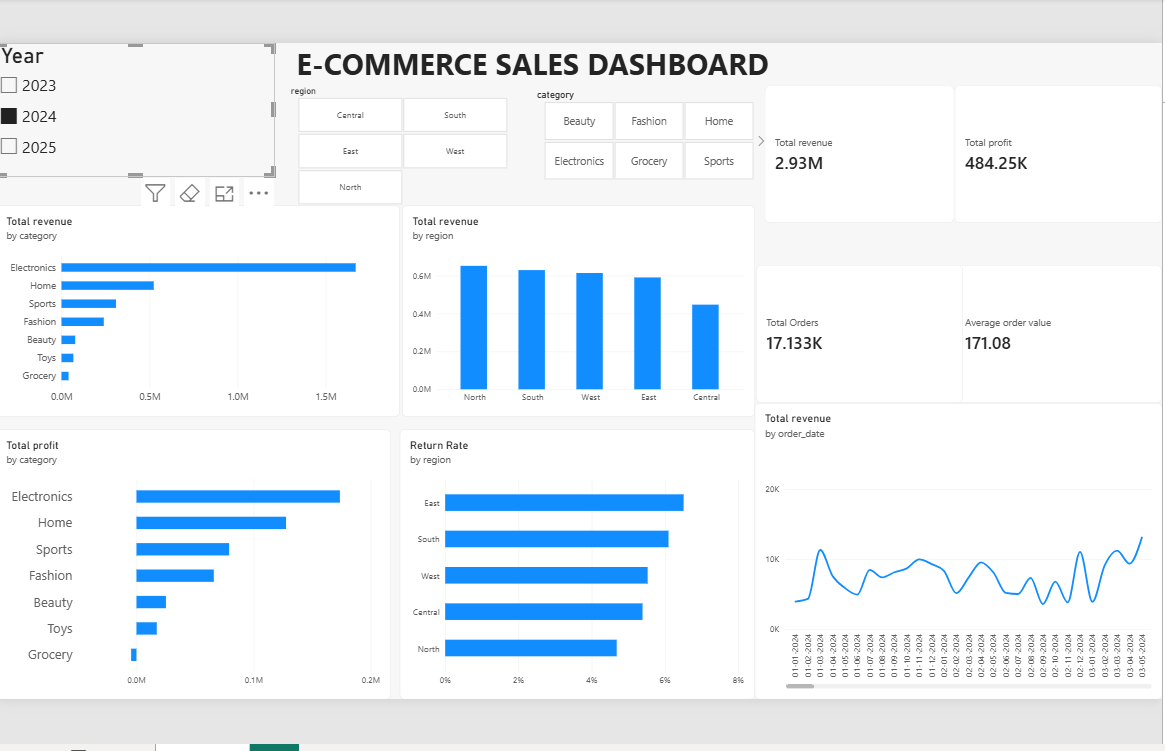

What the dashboard file says about the page in this screenshot:
{"tool":"powerbi","page":{"name":"Page 1","canvas":[1920,1080],"ordinal":0},"visuals":[{"type":"barChart","fields":{"Category":["e_sales e_sales.category"],"Y":["e_sales e_sales.Total revenue"]},"box":[0,267.6,664.8,347.9],"z":0},{"type":"columnChart","fields":{"Category":["e_sales e_sales.region"],"Y":["e_sales e_sales.Total revenue"]},"box":[669,267.6,580.4,347.9],"z":1000},{"type":"barChart","fields":{"Category":["e_sales e_sales.category"],"Y":["e_sales e_sales.Total profit"]},"box":[0,636,650.4,444.6],"z":2000},{"type":"lineChart","fields":{"Category":["e_sales e_sales.order_date"],"Y":["e_sales e_sales.Total revenue"]},"box":[1249.4,592.8,671,487.8],"z":3000},{"type":"barChart","fields":{"Category":["e_sales e_sales.region"],"Y":["e_sales e_sales.Return Rate"]},"box":[664.8,636,584.6,444.6],"z":4000},{"type":"textbox","box":[481.6,0,800.7,76.2],"z":5000},{"type":"slicer","fields":{"Values":["e_sales e_sales.Year"]},"box":[0,0,459,220.2],"z":6000},{"type":"slicer","fields":{"Values":["e_sales e_sales.region"]},"box":[477.5,70,382.8,197.6],"z":7000},{"type":"slicer","fields":{"Values":["e_sales e_sales.category"]},"box":[883,76.2,382.8,150.3],"z":8000},{"type":"cardVisual","fields":{"Data":["e_sales e_sales.Total revenue"]},"box":[1265.9,70,312.9,226.4],"z":9000},{"type":"cardVisual","fields":{"Data":["e_sales e_sales.Total profit"]},"box":[1578.7,70,341.7,226.4],"z":10000},{"type":"cardVisual","fields":{"Data":["e_sales e_sales.Average order value"]},"box":[1578.7,366.4,341.7,226.4],"z":11000},{"type":"cardVisual","fields":{"Data":["e_sales e_sales.Total Orders"]},"box":[1251.5,366.4,341.7,226.4],"z":12000}]}

Visuals, with their boxes on the page's 1920x1080 design canvas (x1, y1, x2, y2). These are canvas units, not pixel positions in the 1165x751 screenshot, which may show the page scaled, cropped or inside an application window:
barChart - e_sales e_sales.category x e_sales e_sales.Total revenue: x1=0 y1=268 x2=665 y2=616
columnChart - e_sales e_sales.region x e_sales e_sales.Total revenue: x1=669 y1=268 x2=1249 y2=616
barChart - e_sales e_sales.category x e_sales e_sales.Total profit: x1=0 y1=636 x2=650 y2=1081
lineChart - e_sales e_sales.order_date x e_sales e_sales.Total revenue: x1=1249 y1=593 x2=1920 y2=1081
barChart - e_sales e_sales.region x e_sales e_sales.Return Rate: x1=665 y1=636 x2=1249 y2=1081
textbox: x1=482 y1=0 x2=1282 y2=76
slicer - e_sales e_sales.Year: x1=0 y1=0 x2=459 y2=220
slicer - e_sales e_sales.region: x1=478 y1=70 x2=860 y2=268
slicer - e_sales e_sales.category: x1=883 y1=76 x2=1266 y2=226
cardVisual - e_sales e_sales.Total revenue: x1=1266 y1=70 x2=1579 y2=296
cardVisual - e_sales e_sales.Total profit: x1=1579 y1=70 x2=1920 y2=296
cardVisual - e_sales e_sales.Average order value: x1=1579 y1=366 x2=1920 y2=593
cardVisual - e_sales e_sales.Total Orders: x1=1252 y1=366 x2=1593 y2=593
